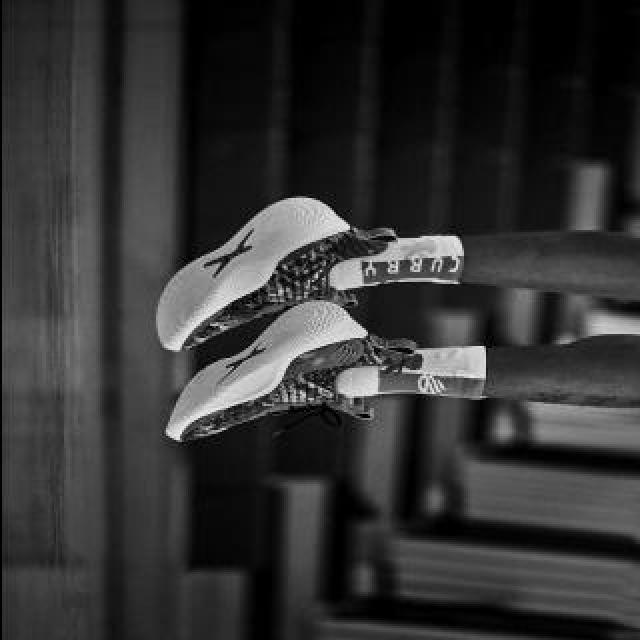shoe: (152, 198, 396, 352), (164, 300, 416, 444)
